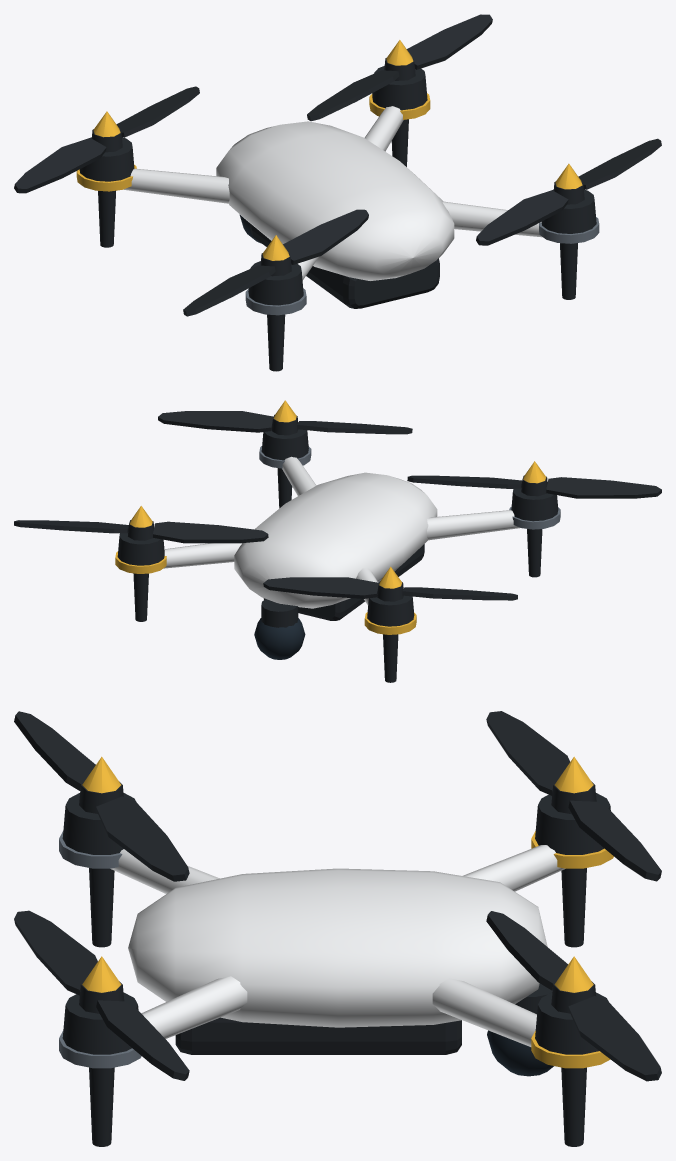
Rendered from copter-B9puJvWa.glb.
The picture shows the model from 3 angles, top to bottom: view 1: azimuth 30°, elevation 25°; view 2: azimuth 150°, elevation 25°; view 3: azimuth 270°, elevation 25°; orthographic projection. The views are drawn at different scales.
Parts seen in each view (by area): view 1: Body, Dark, Propeller3Dark, Propeller4Dark, Propeller1Dark, Propeller2Dark, Mid, Trim; view 2: Body, Dark, Propeller1Dark, Propeller3Dark, Propeller2Dark, Propeller4Dark, Glass, Trim, Mid; view 3: Body, Dark, Propeller1Dark, Propeller2Dark, Propeller4Dark, Propeller3Dark, Mid, Trim, Glass, Propeller2Trim, Propeller3Trim, Propeller1Trim (+1 smaller).
Part boxes in pixels (left/top/right/bottom): Body: left=123, top=106, right=542, bottom=280; Dark: left=79, top=66, right=596, bottom=371; Propeller3Dark: left=14, top=86, right=199, bottom=193; Propeller4Dark: left=476, top=138, right=661, bottom=245; Propeller1Dark: left=307, top=14, right=492, bottom=121; Propeller2Dark: left=183, top=209, right=368, bottom=316; Mid: left=245, top=217, right=599, bottom=315; Trim: left=76, top=93, right=430, bottom=191; Body: left=163, top=456, right=520, bottom=608; Dark: left=117, top=429, right=558, bottom=682; Propeller1Dark: left=14, top=520, right=268, bottom=543; Propeller3Dark: left=263, top=577, right=517, bottom=601; Propeller2Dark: left=407, top=475, right=661, bottom=498; Propeller4Dark: left=158, top=411, right=412, bottom=435; Glass: left=254, top=618, right=305, bottom=659; Trim: left=115, top=551, right=416, bottom=634; Mid: left=259, top=446, right=560, bottom=529; Body: left=110, top=845, right=565, bottom=1046; Dark: left=62, top=793, right=610, bottom=1146; Propeller1Dark: left=486, top=911, right=661, bottom=1081; Propeller2Dark: left=14, top=711, right=189, bottom=881; Propeller4Dark: left=14, top=910, right=189, bottom=1080; Propeller3Dark: left=486, top=711, right=661, bottom=881; Mid: left=59, top=831, right=141, bottom=1068; Trim: left=531, top=831, right=613, bottom=1068; Glass: left=487, top=1030, right=553, bottom=1076; Propeller2Trim: left=82, top=756, right=121, bottom=793; Propeller3Trim: left=554, top=756, right=593, bottom=793; Propeller1Trim: left=554, top=956, right=593, bottom=992.
Size of the model in its own units: 0.4496 by 0.1251 by 0.3395.
